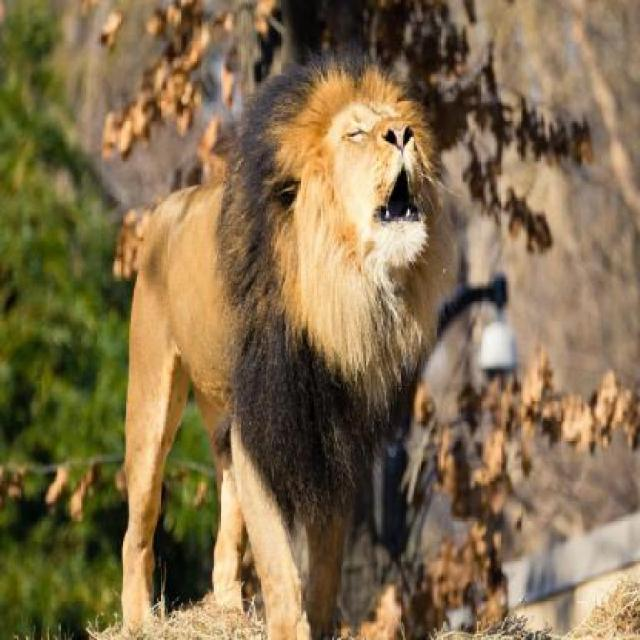Lion: (103, 43, 463, 639)
